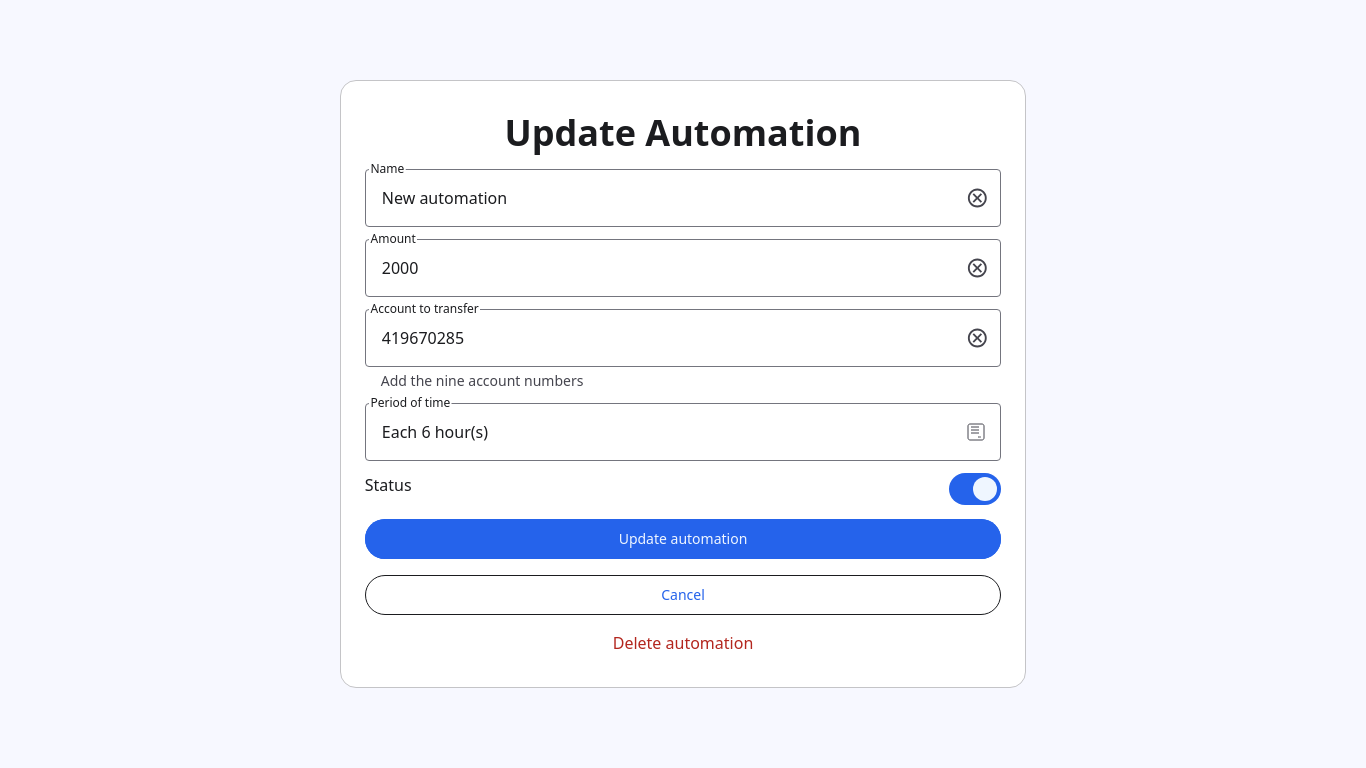
Test: Update Automation page tests › Delete automation › Should show the modal with the specific message
What coordinates should you click on to do the following:
click the button "Delete automation"
I would click on:
 (683, 643)
Its box is [613, 631, 753, 655].
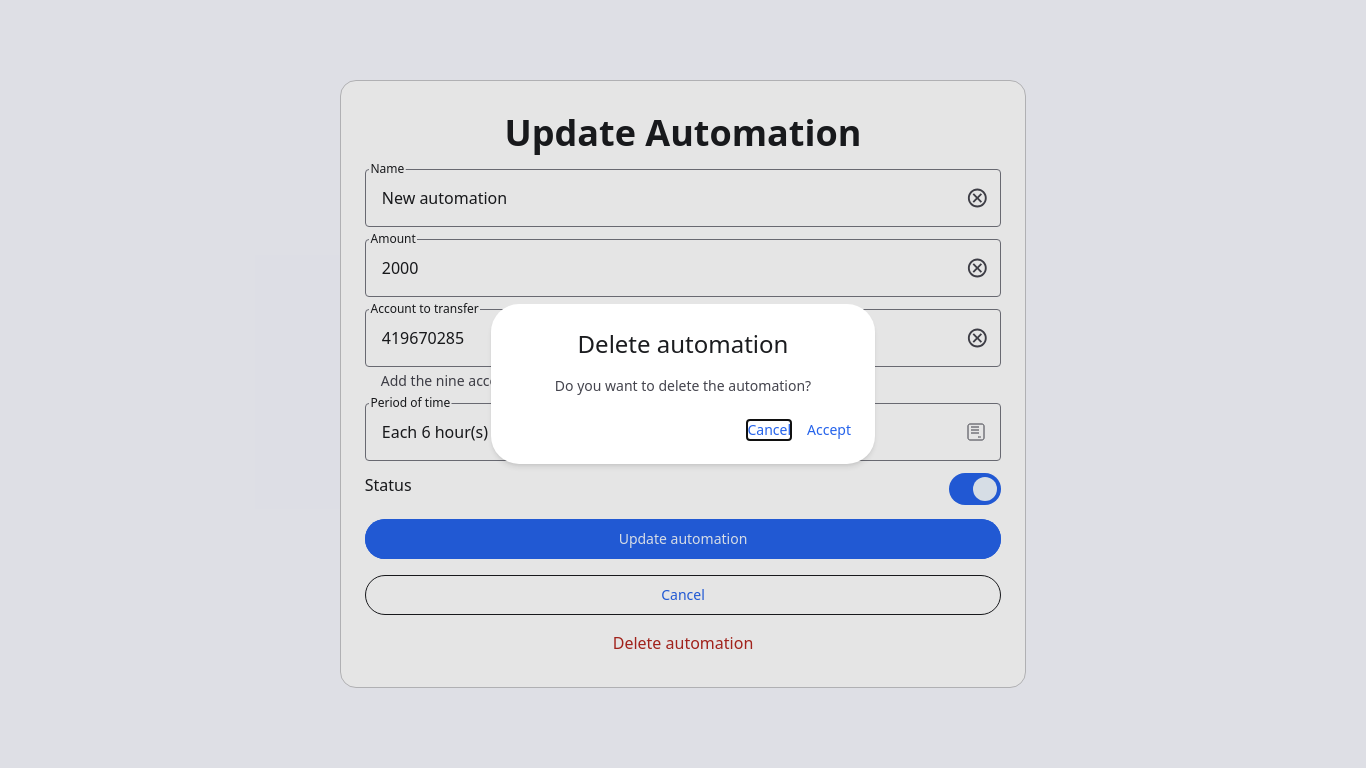
Result: the text "Do you want to delete the automation?" is shown at [555, 376, 811, 396]
Result: the button "Cancel" below "Do you want to delete the automation?" is shown at [748, 420, 791, 440]
Result: the button "Accept" is shown at [807, 420, 851, 440]
